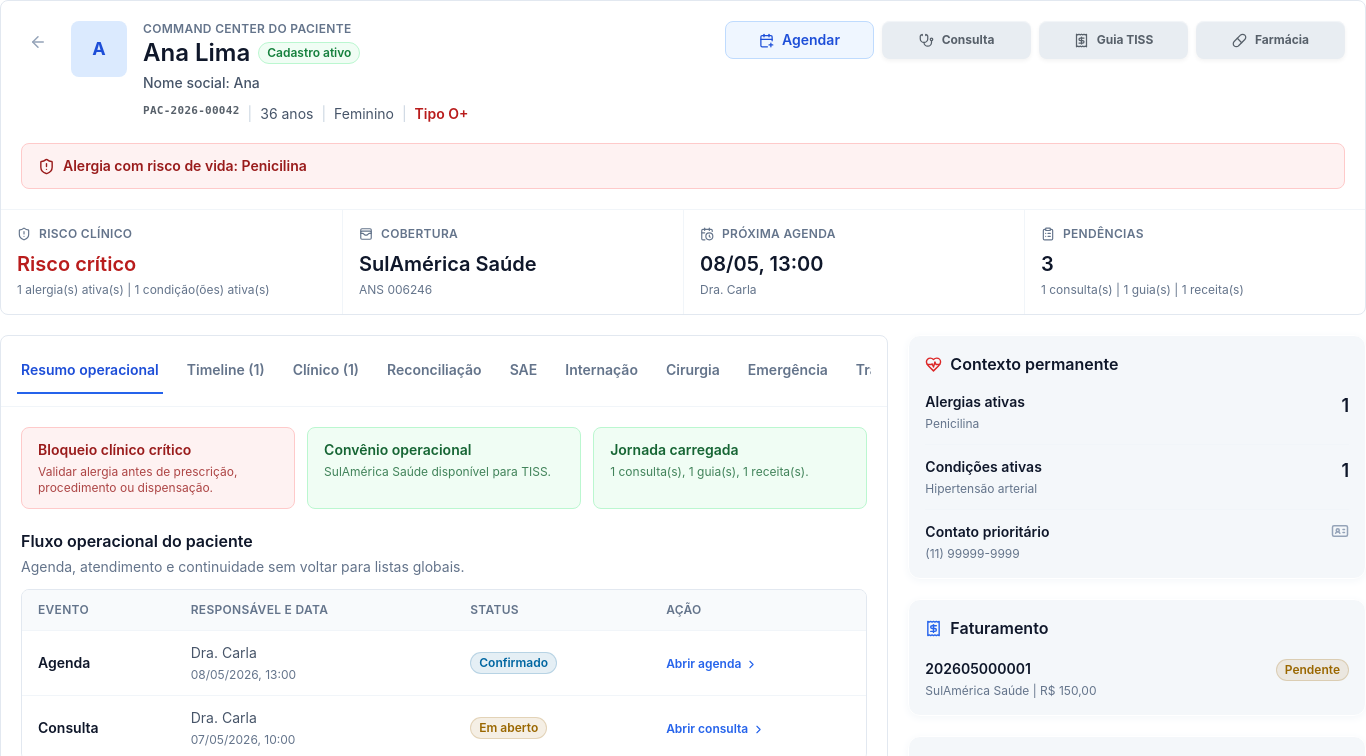
Test: PatientDetailPage › surfaces medication reconciliation with per-transition decisions
Expected: the heading "Ana Lima" is shown, [143,37,250,69]
Click the button "Reconciliação" at (434, 371), box [383,348,486,394]
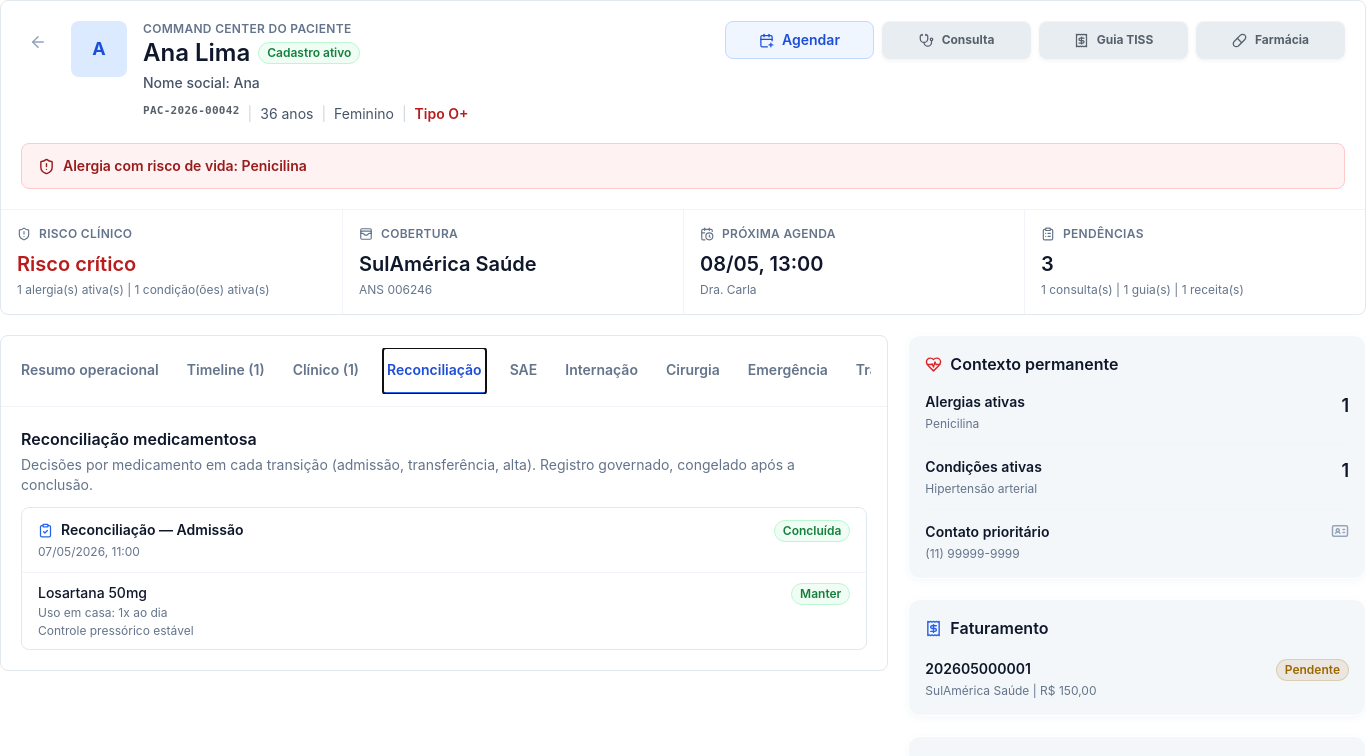
Result: the text "Losartana 50mg" is shown at [38,584,147,601]
Result: the text "Reconciliação — Admissão" is shown at [61,520,244,540]
Result: the text "Concluída" is shown at [774,520,850,542]
